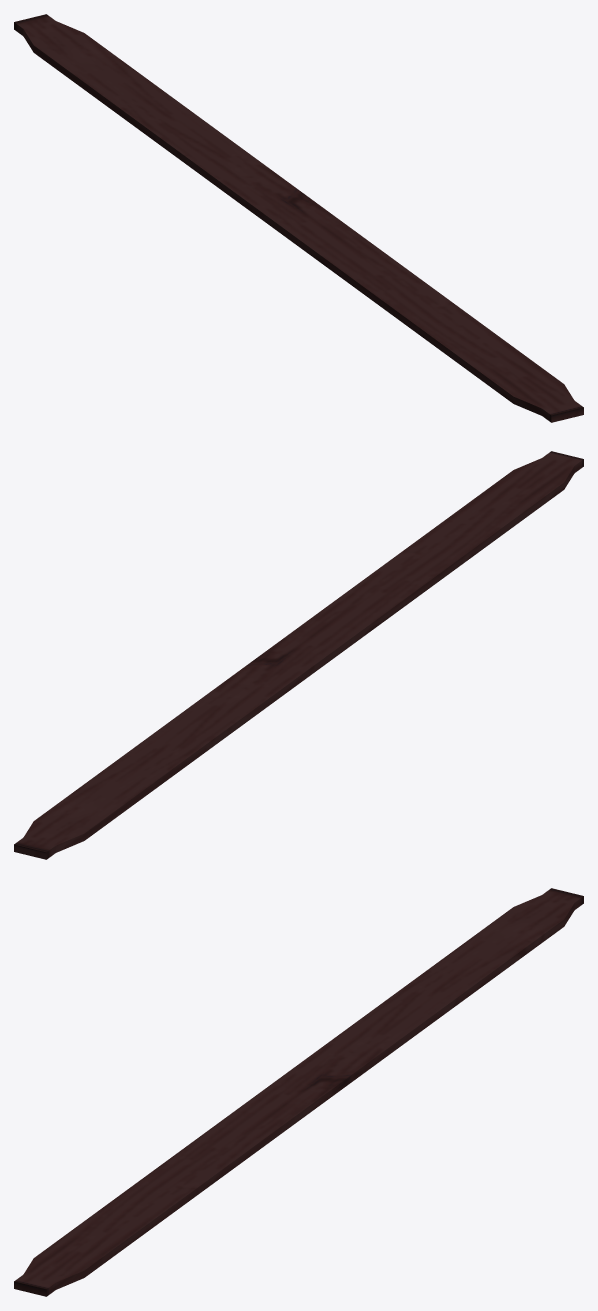
Rendered from MOD_FloorTrim_Block.fbx.
3 renders of one model, top to bottom at view 1: azimuth 30°, elevation 25°; view 2: azimuth 150°, elevation 25°; view 3: azimuth 330°, elevation 25°, orthographic.
Visible parts, largest first — view 1: MOD_FloorTrim_Block; view 2: MOD_FloorTrim_Block; view 3: MOD_FloorTrim_Block.
Boxes of the visible parts, <box> form: MOD_FloorTrim_Block: <box>14,14,583,422</box>; MOD_FloorTrim_Block: <box>14,451,583,859</box>; MOD_FloorTrim_Block: <box>14,888,583,1296</box>.
Bounding box in the file's own units: 22.58 × 3.15 × 415.
Materials: 1 (1 with a texture image).
